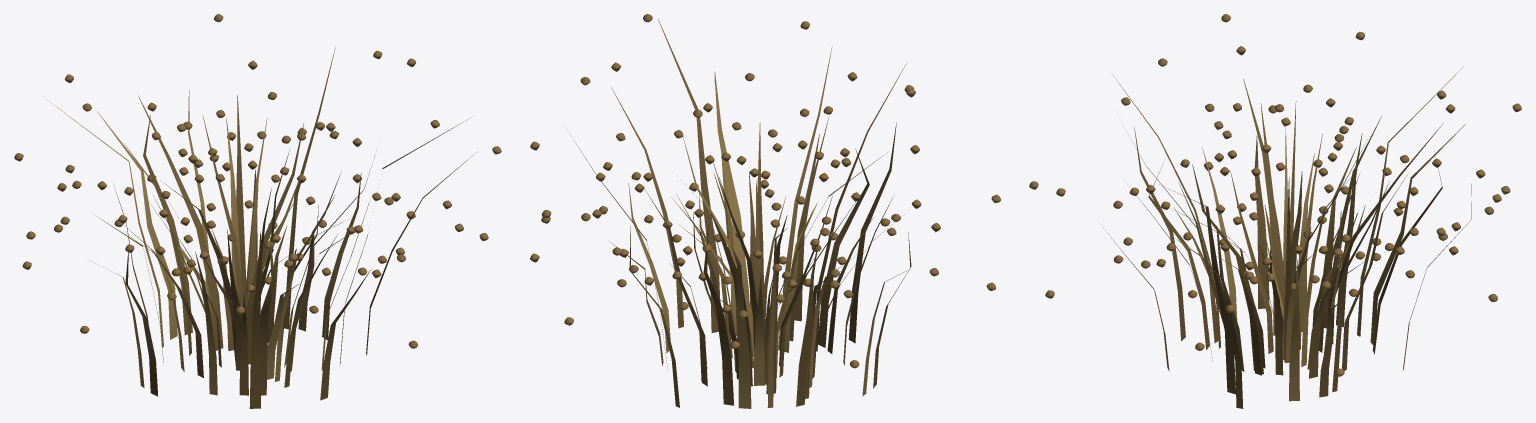
File: detail_dry_grass.glb
3 renders of one model, left to right at view 1: azimuth 30°, elevation 25°; view 2: azimuth 150°, elevation 25°; view 3: azimuth 270°, elevation 25°, orthographic. The views are drawn at different scales.
Visible parts, largest first — view 1: CurvedGrassBlades; view 2: CurvedGrassBlades; view 3: CurvedGrassBlades.
Part boxes in pixels (box(x1,y1,x2,y2)): CurvedGrassBlades: box(46, 47, 477, 408); CurvedGrassBlades: box(566, 19, 911, 408); CurvedGrassBlades: box(1102, 66, 1471, 408).
Bounding box in the file's own units: 1.81 × 1.2 × 1.8.
